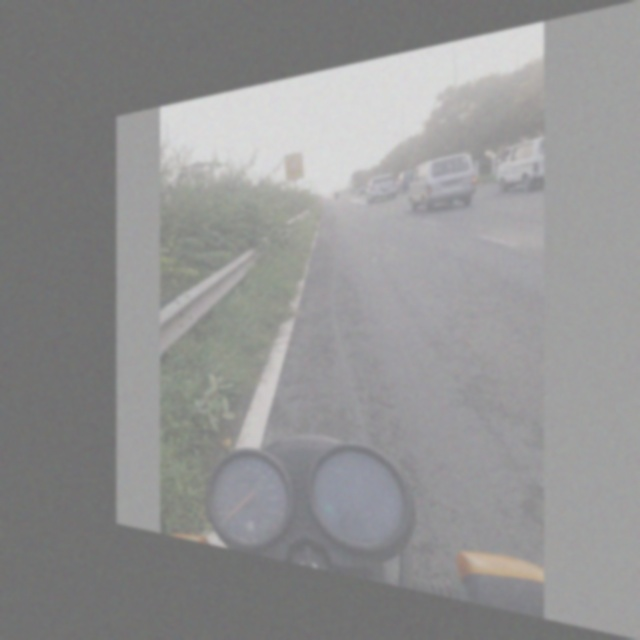Narrow_Bridge: (285, 152, 303, 177)
